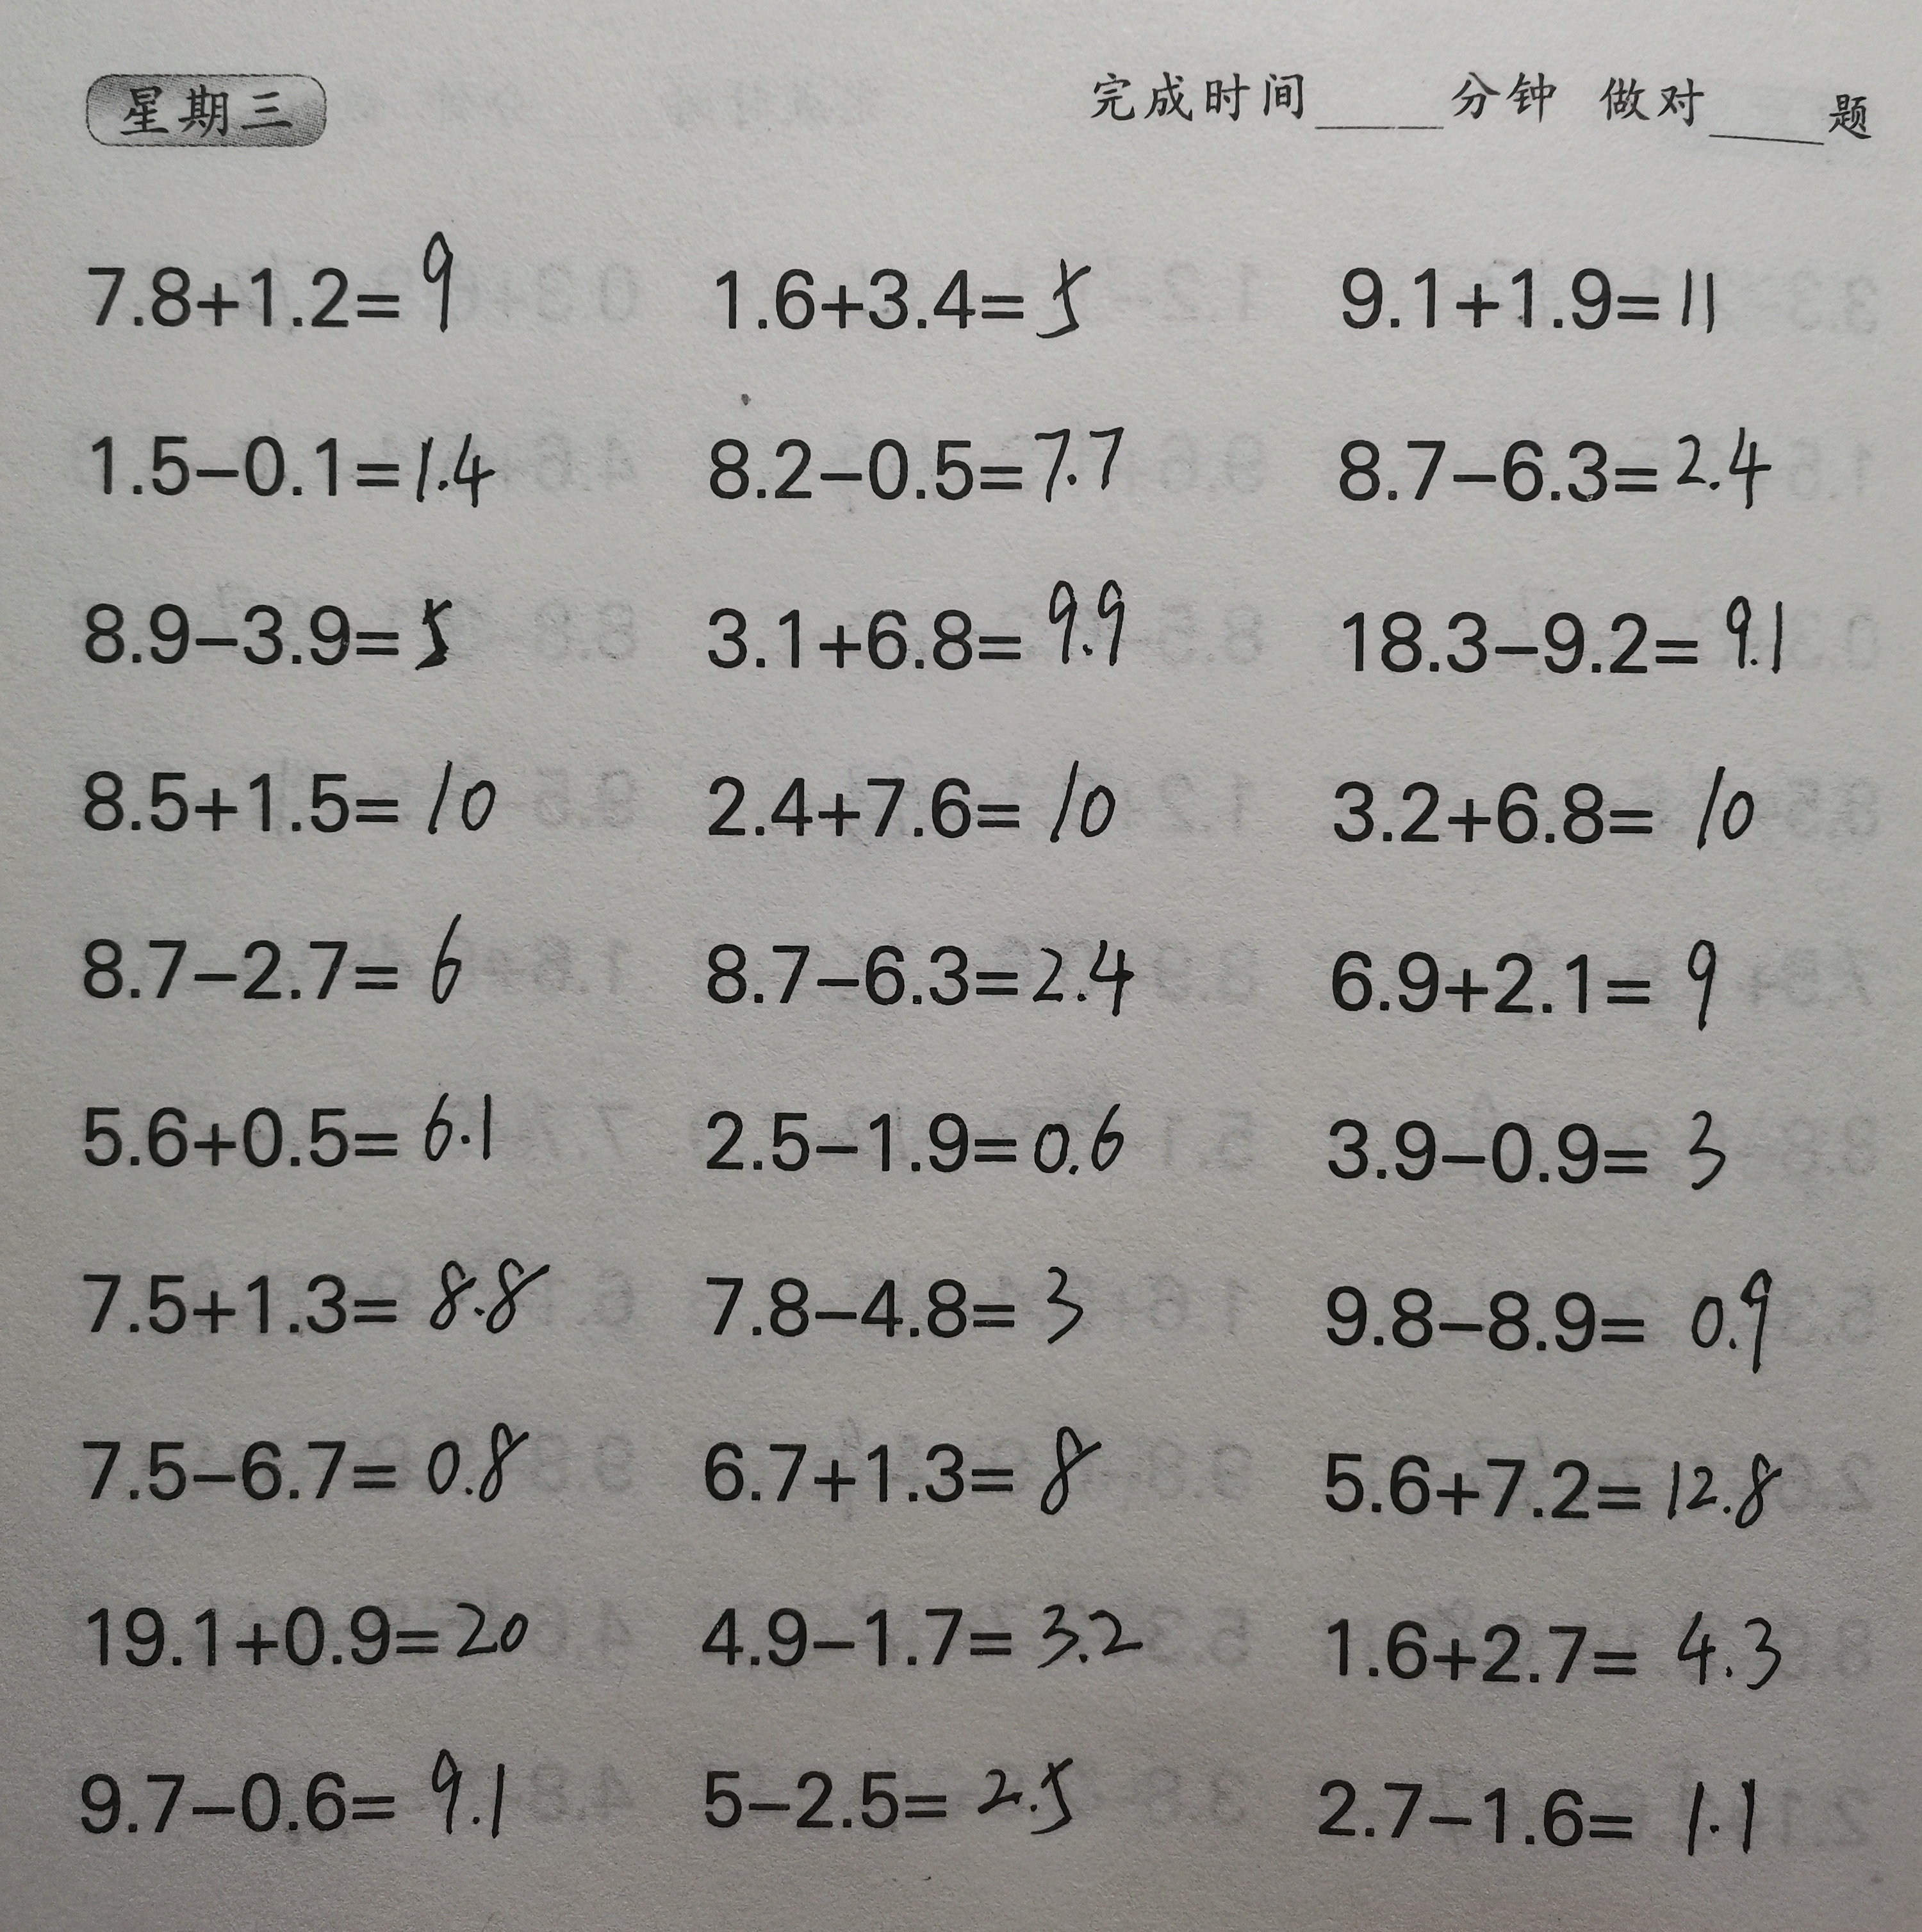equation: (1302, 1745, 1790, 1876), (1290, 1252, 1783, 1381), (1297, 1585, 1816, 1707), (1299, 1416, 1790, 1536), (55, 1740, 544, 1860), (70, 1235, 558, 1354), (685, 1569, 1156, 1691), (1304, 911, 1737, 1043), (1322, 576, 1818, 689), (693, 911, 1146, 1032), (688, 738, 1126, 858), (697, 218, 1111, 345), (1304, 1087, 1748, 1203), (56, 211, 481, 333), (70, 1404, 532, 1515), (695, 565, 1156, 676), (693, 1402, 1105, 1525), (70, 402, 510, 516), (681, 1080, 1148, 1187), (77, 1571, 539, 1678), (67, 557, 468, 680), (65, 741, 503, 852), (65, 1073, 503, 1184), (1309, 752, 1772, 856), (688, 1731, 1089, 1849), (48, 907, 493, 1013), (692, 1249, 1105, 1358), (1315, 414, 1785, 509), (1322, 236, 1728, 345), (699, 416, 1142, 511)
